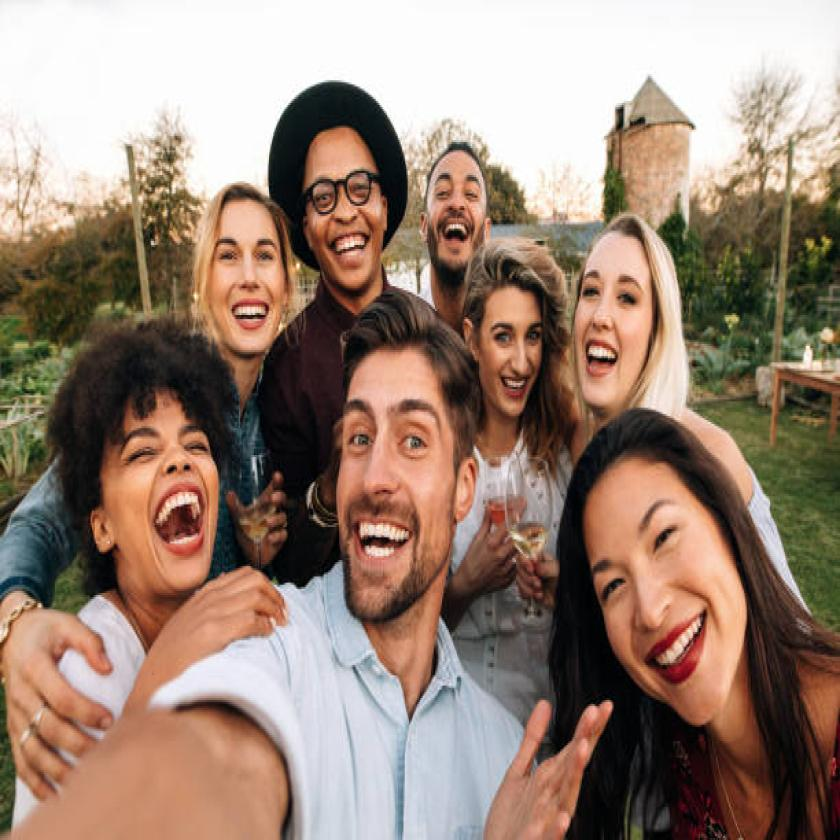Sin_casco: (555, 410, 792, 737), (39, 306, 254, 599), (333, 292, 493, 637), (578, 187, 700, 409), (179, 158, 294, 366), (456, 231, 565, 412), (427, 142, 488, 272)
